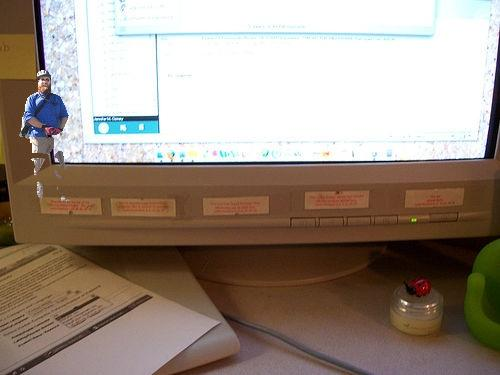tampered: (19, 71, 73, 201)
